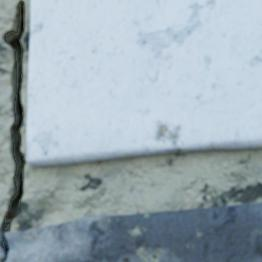brick: (27, 0, 261, 166)
broken_brick: (0, 201, 261, 261)
crack: (0, 1, 25, 259)
